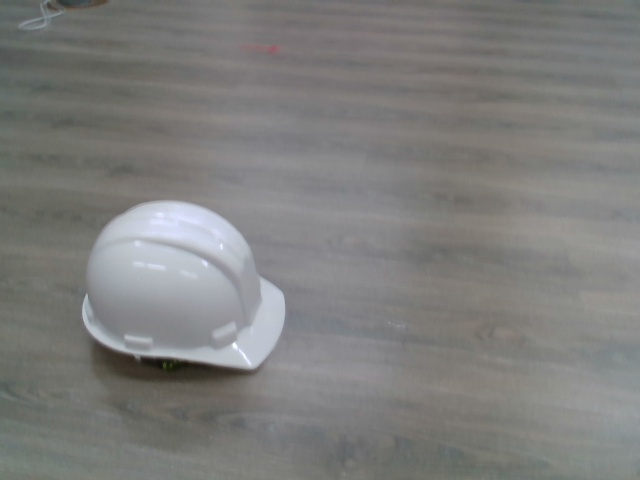helmet: (76, 196, 288, 373)
